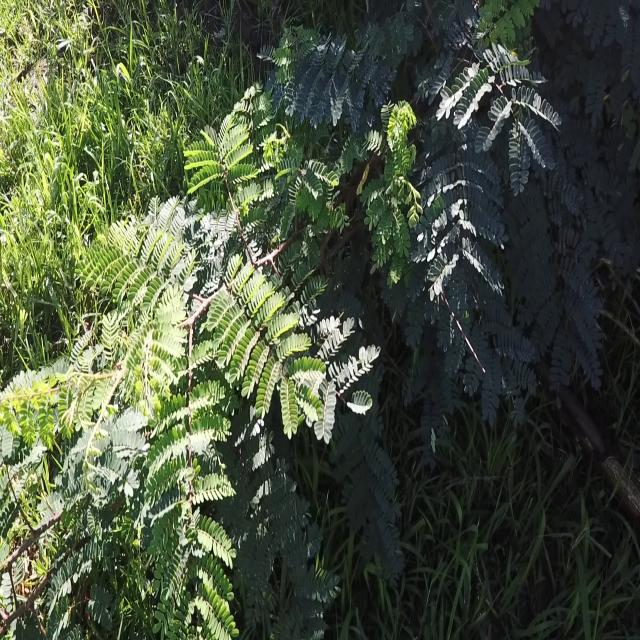Mysore-Thorn-Weed: (73, 98, 410, 640), (261, 0, 639, 421), (0, 329, 154, 640)
